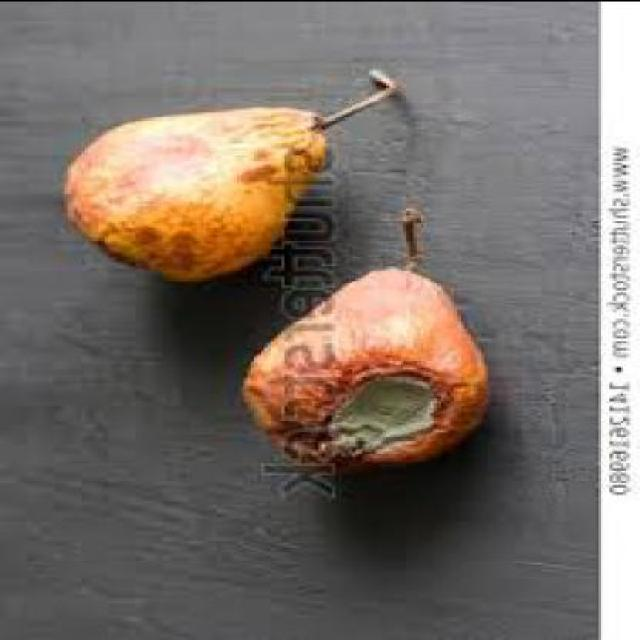BIODEGRADABLE: (58, 67, 396, 279), (240, 205, 494, 469)
